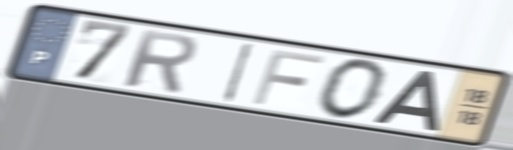7: (73, 17, 136, 84)
A: (369, 69, 442, 133)
F: (249, 47, 328, 107)
I: (219, 40, 258, 104)
O: (315, 56, 392, 122)
R: (121, 26, 199, 95)
